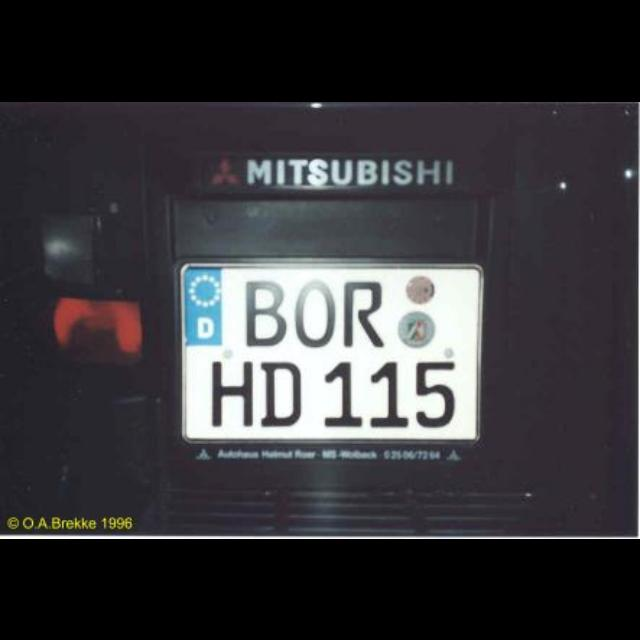d_license_plate: (180, 262, 478, 438)
